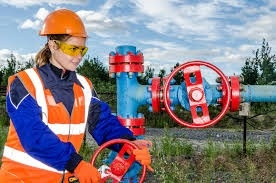helmet: (38, 8, 89, 39)
person with full safety: (1, 6, 111, 182)
safety vest: (6, 69, 90, 179)
